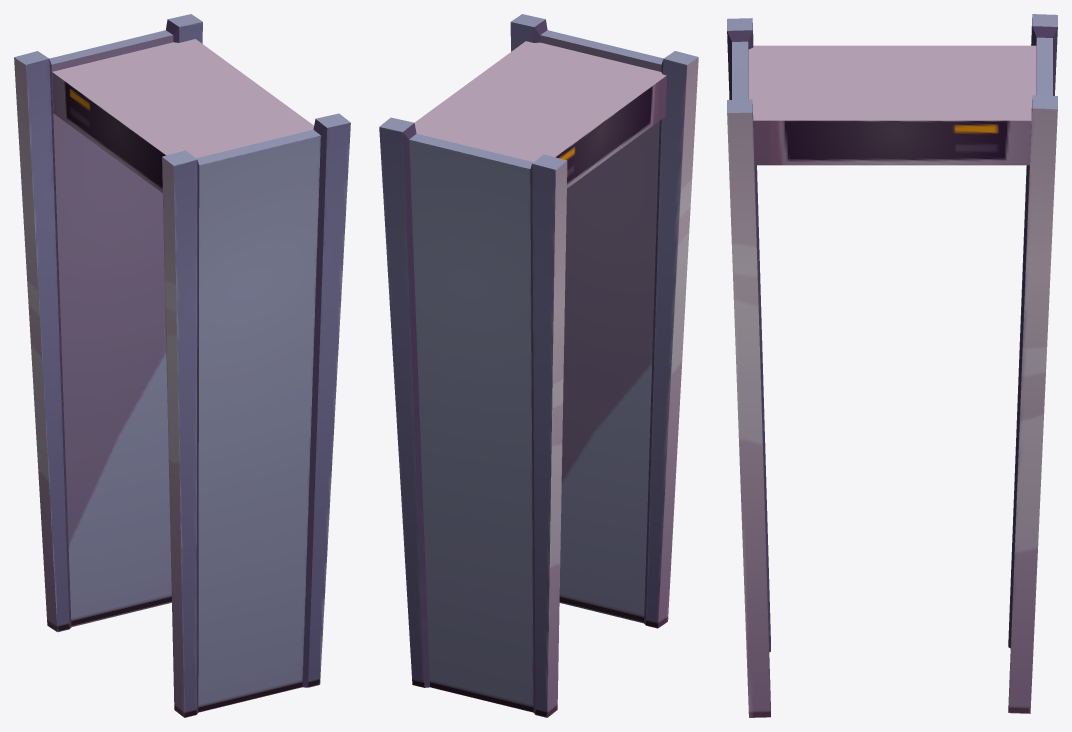
File: Maquina_detectora_de_metales.fbx
3 renders of one model, left to right at view 1: azimuth 30°, elevation 25°; view 2: azimuth 150°, elevation 25°; view 3: azimuth 270°, elevation 25°, orthographic. The views are drawn at different scales.
Visible parts, largest first — view 1: Cube.035; view 2: Cube.035; view 3: Cube.035.
Part boxes in pixels (x1,y1,x2,y2): Cube.035: (14, 14, 350, 717); Cube.035: (379, 14, 698, 717); Cube.035: (727, 14, 1057, 717).
Bounding box in the file's own units: 41.02 × 120 × 58.15.
